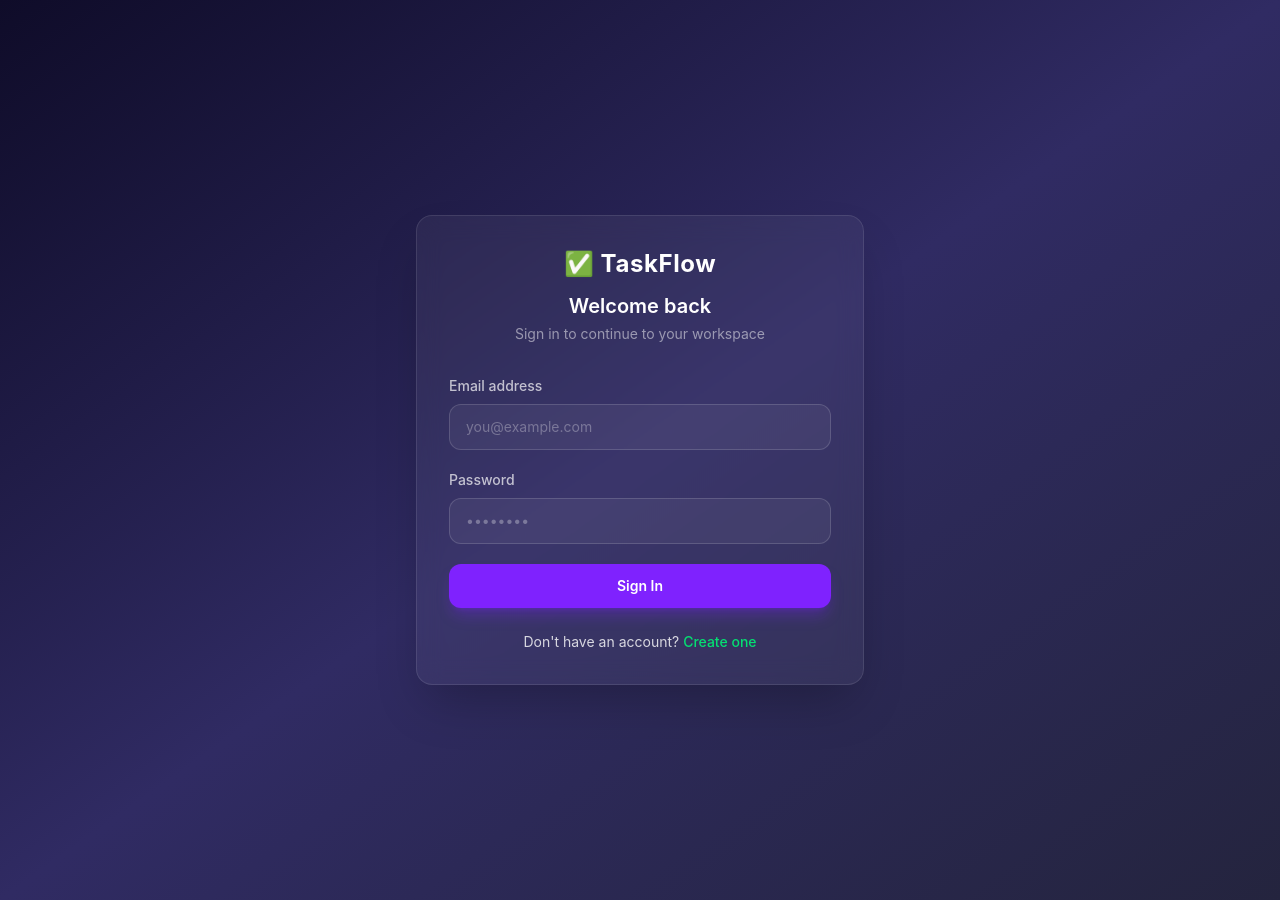
Test: Login › shows API error when login fails
Step 1. Type "wrong@example.com" into the field with placeholder "you@example.com" → coordinates (640, 427), box 449,404 -> 831,450
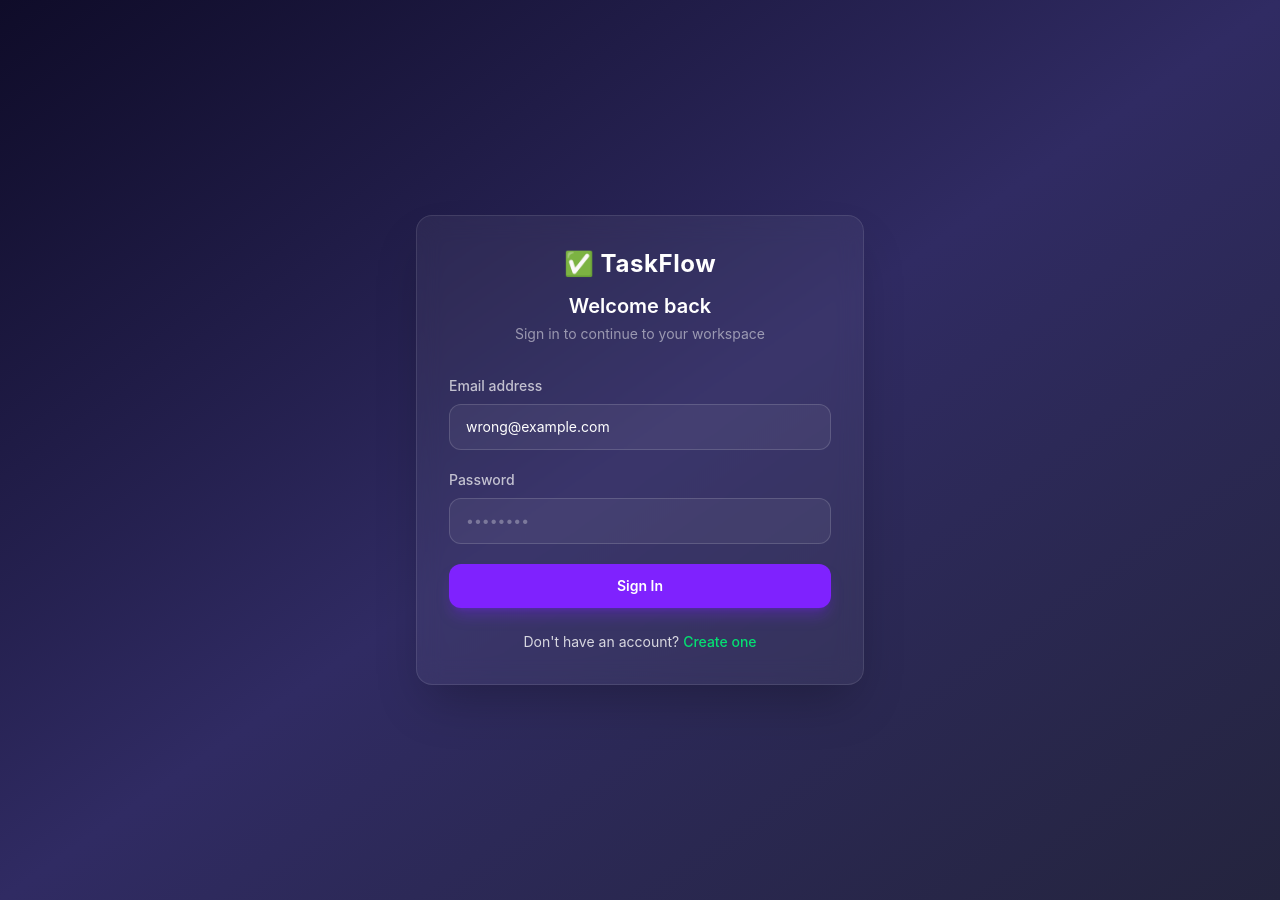
Step 2. Type "wrongpassword" into the password field with placeholder "••••••••" → coordinates (640, 521), box 449,498 -> 831,544
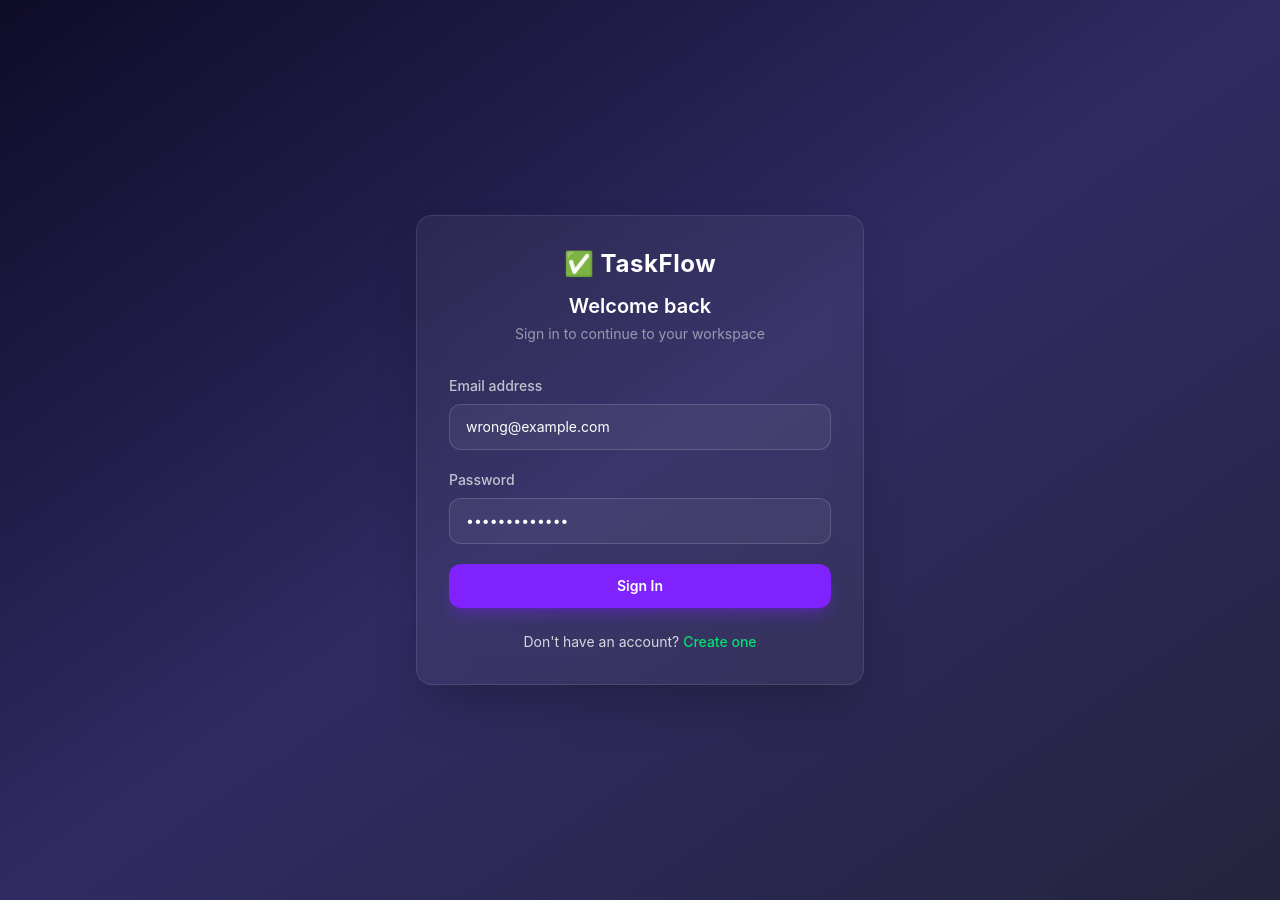
Step 3. Click the button "Sign In" → coordinates (640, 586), box 449,564 -> 831,608
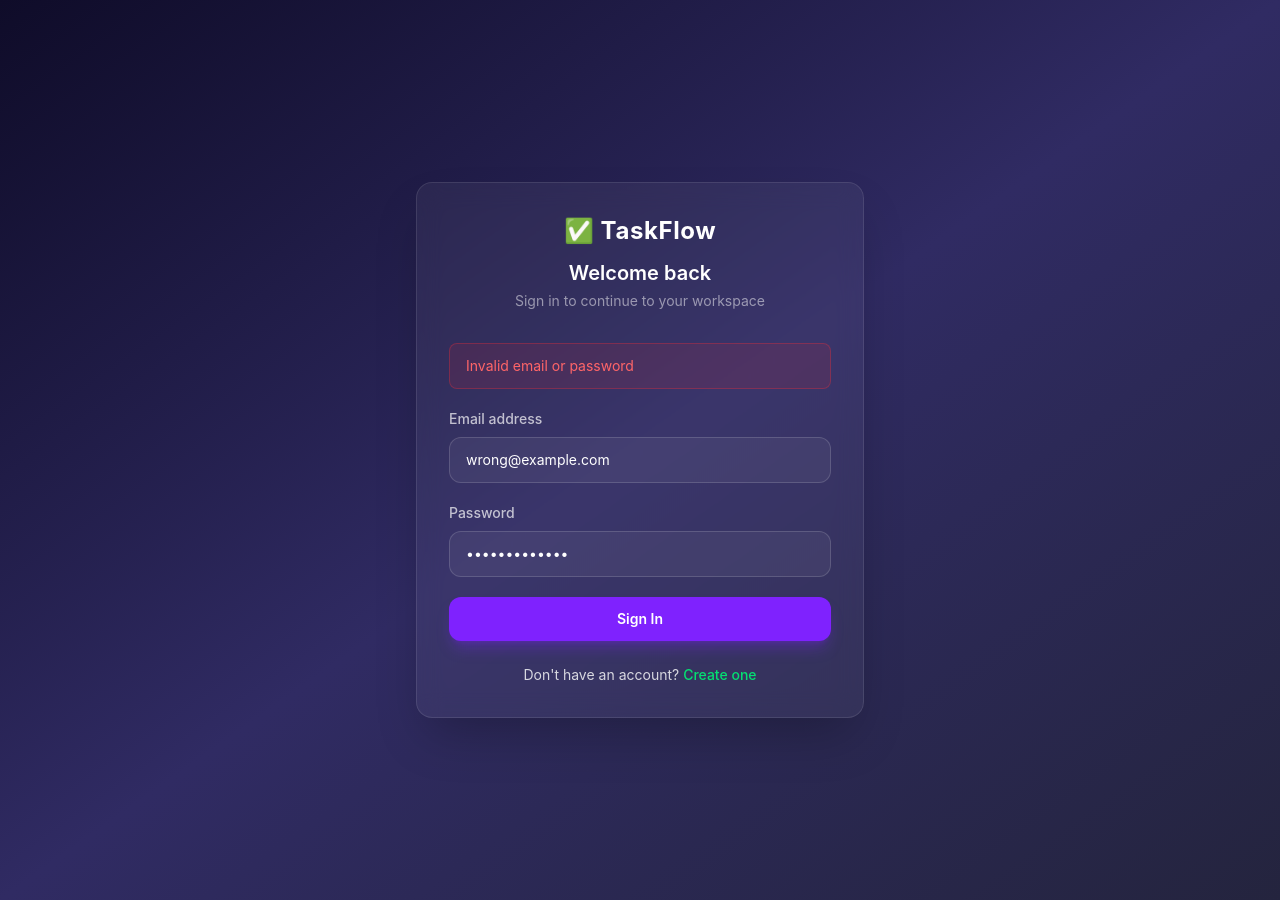
Check: the text "Invalid email or password" is shown, box 449,343 -> 831,389
